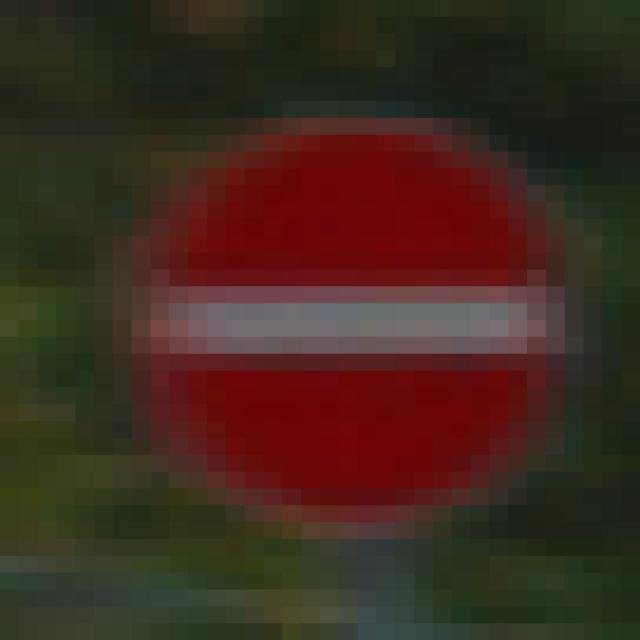No Entry: (114, 102, 547, 557)
